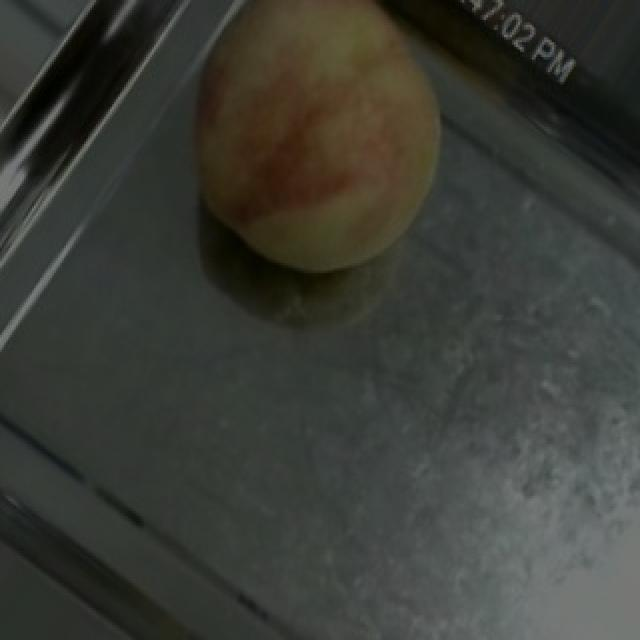Fruit: (142, 0, 482, 315)
